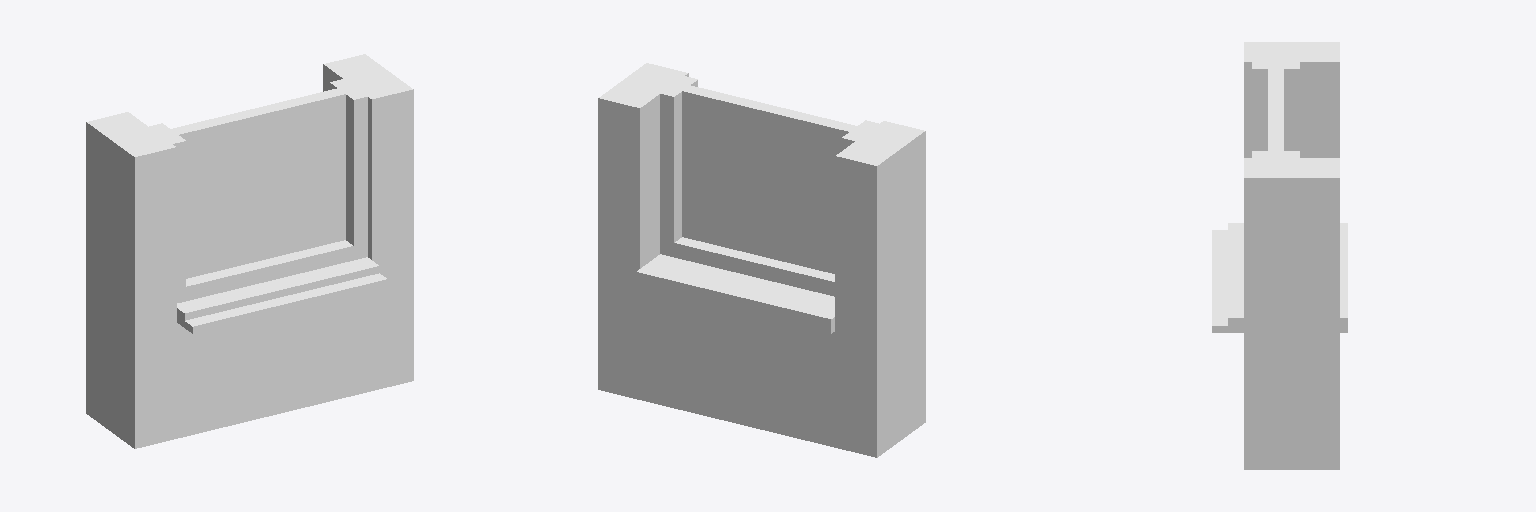
Rendered from Wall_Window.obj.
3 views of the same model, side by side, from view 1: azimuth 30°, elevation 25°; view 2: azimuth 150°, elevation 25°; view 3: azimuth 270°, elevation 25° (orthographic).
Parts seen in each view (by area): view 1: Wall_Window; view 2: Wall_Window; view 3: Wall_Window.
Boxes of the visible parts, x1,y1,x2,y2 form: Wall_Window: [86, 54, 413, 448]; Wall_Window: [598, 63, 925, 457]; Wall_Window: [1212, 42, 1347, 469].
Size of the model in its own units: 40 by 40 by 17.